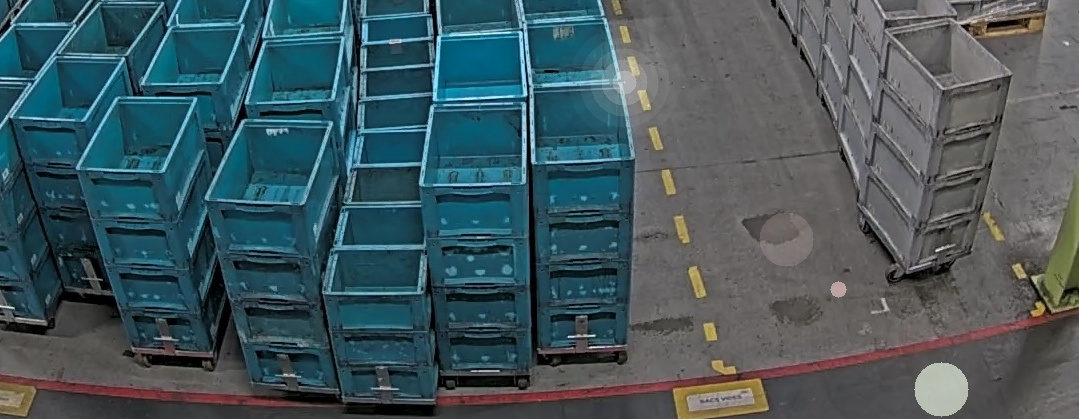4G: (856, 18, 1012, 275)
B4: (74, 96, 228, 357), (204, 120, 344, 393), (417, 104, 532, 375), (6, 56, 133, 293), (528, 82, 636, 351)
B8: (322, 203, 437, 404)
